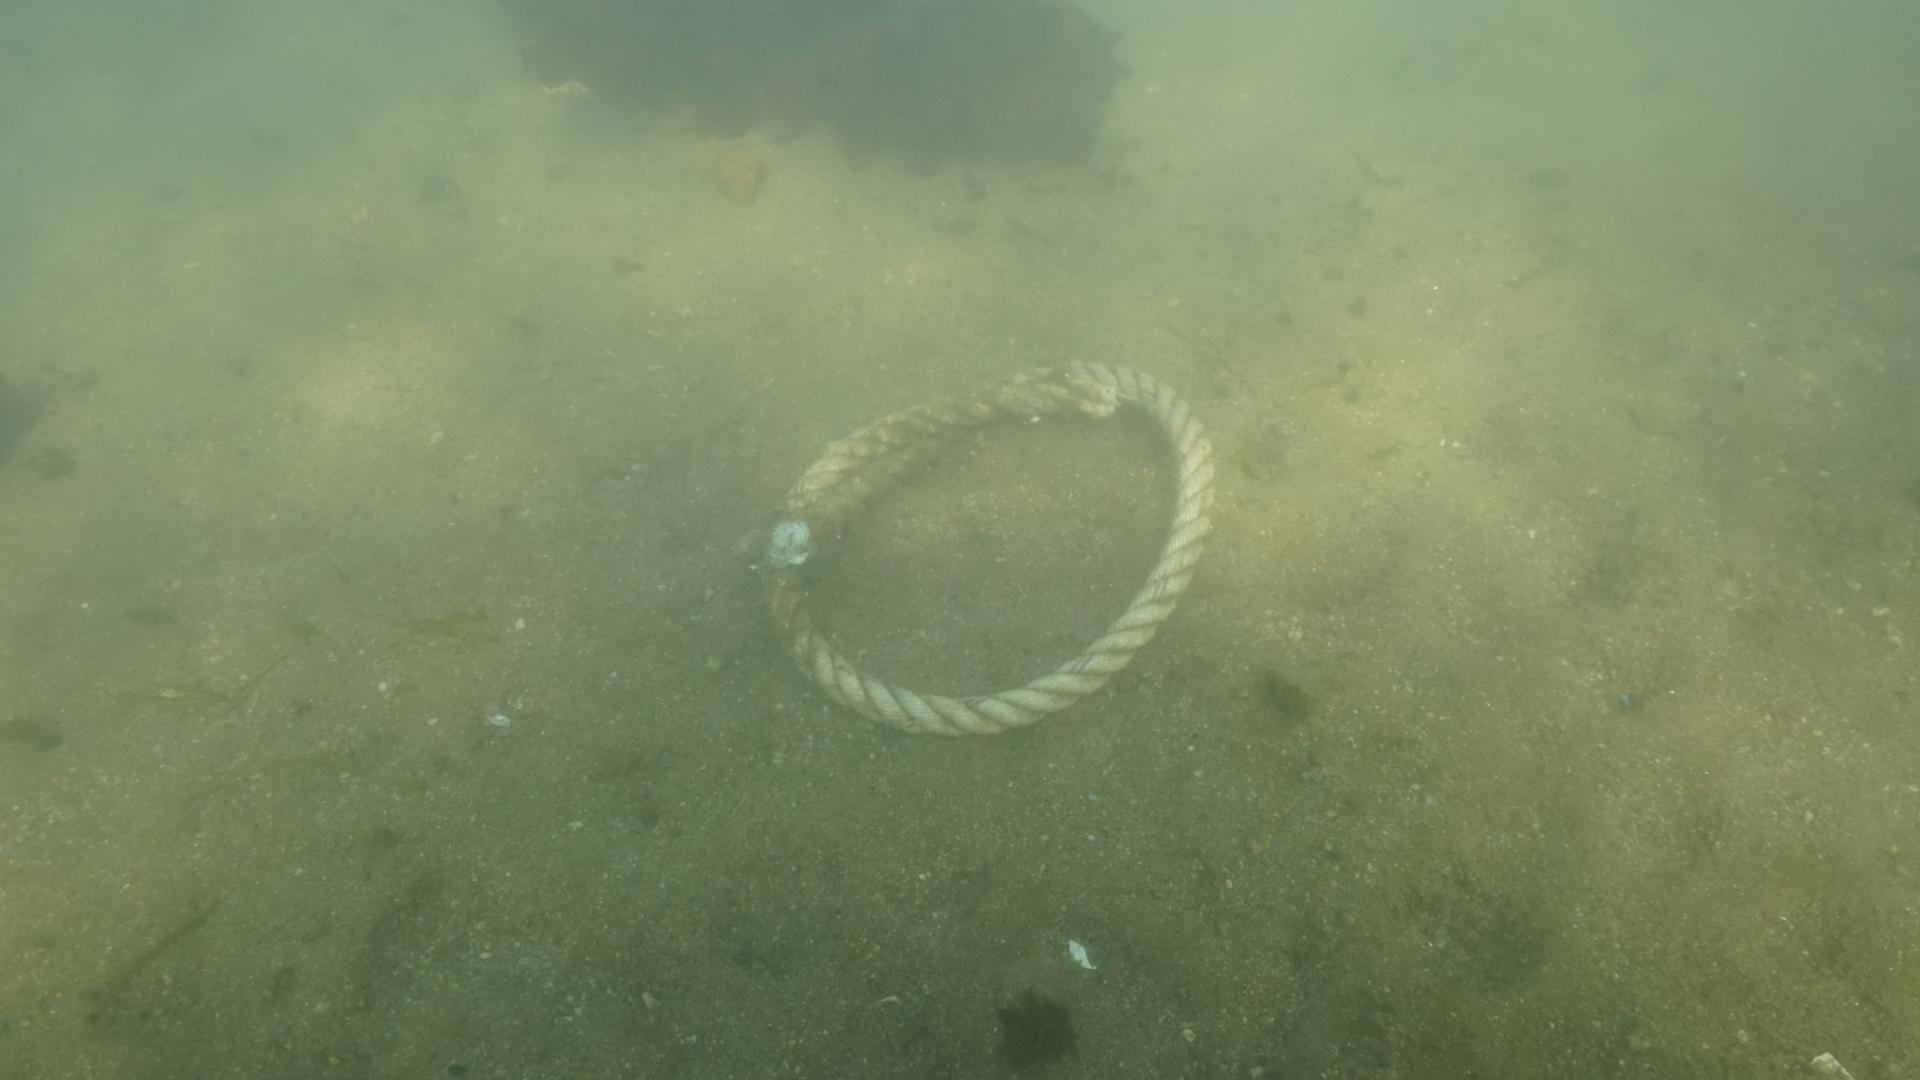bundle of ropes: (761, 352, 1218, 744)
